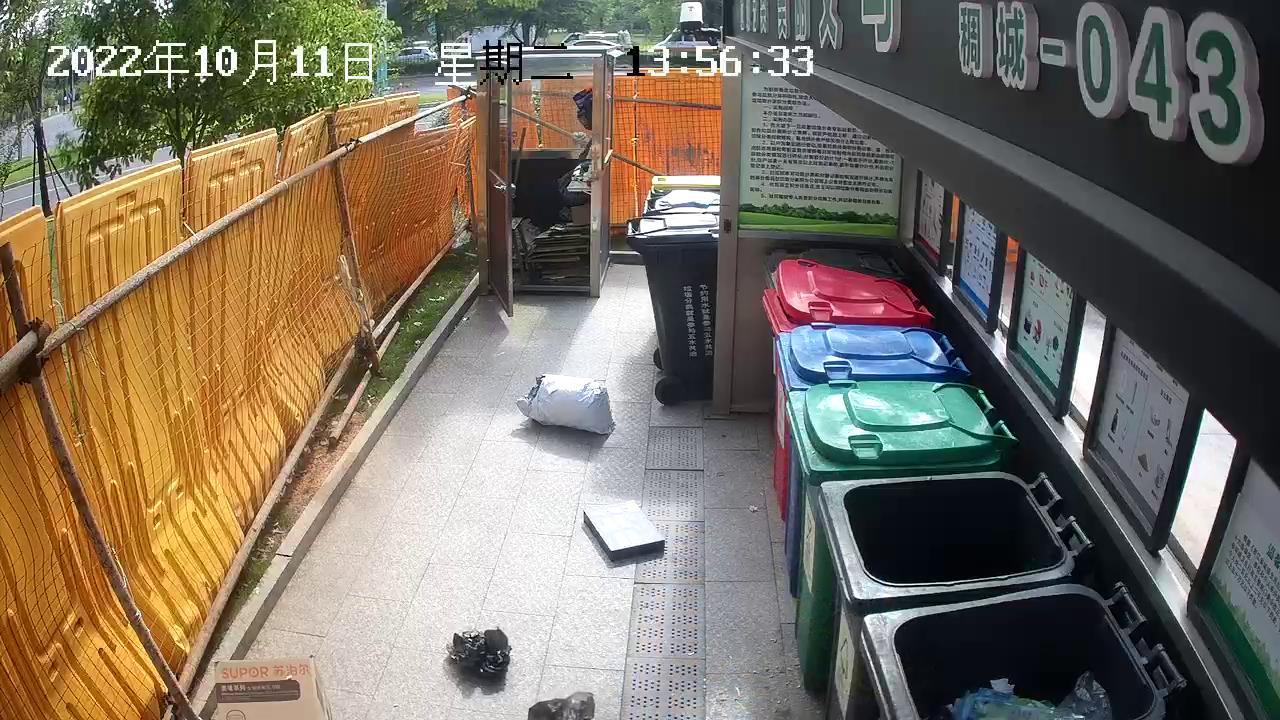garbage: (513, 369, 622, 440), (443, 622, 515, 683)
zhizhipin: (208, 651, 341, 720), (580, 496, 670, 562)
